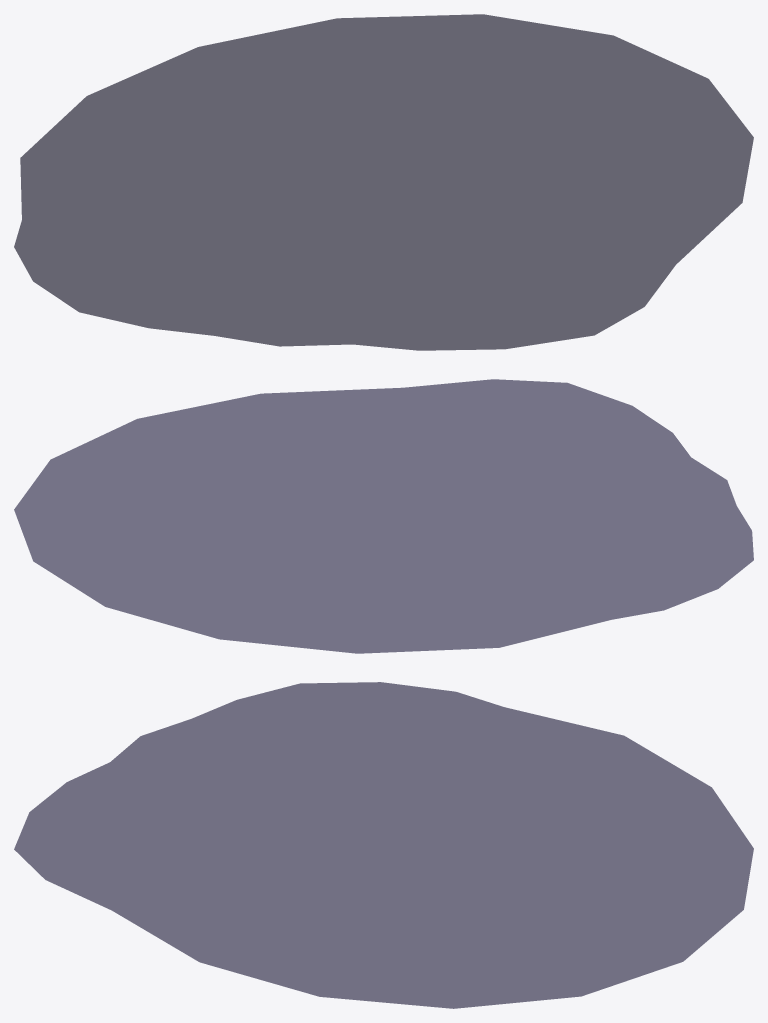
The picture shows the model from 3 angles, top to bottom: view 1: azimuth 30°, elevation 25°; view 2: azimuth 150°, elevation 25°; view 3: azimuth 270°, elevation 25°; orthographic projection. The views are drawn at different scales.
Parts seen in each view (by area): view 1: Joint_0_Object_0; view 2: Joint_0_Object_0; view 3: Joint_0_Object_0.
Boxes of the visible parts, box(x1,y1,x2,y2) form: Joint_0_Object_0: box(14, 14, 753, 350); Joint_0_Object_0: box(14, 379, 753, 653); Joint_0_Object_0: box(14, 682, 753, 1008).
Size of the model in its own units: 395 by 0 by 378.
Materials: 1 (1 with a texture image).
